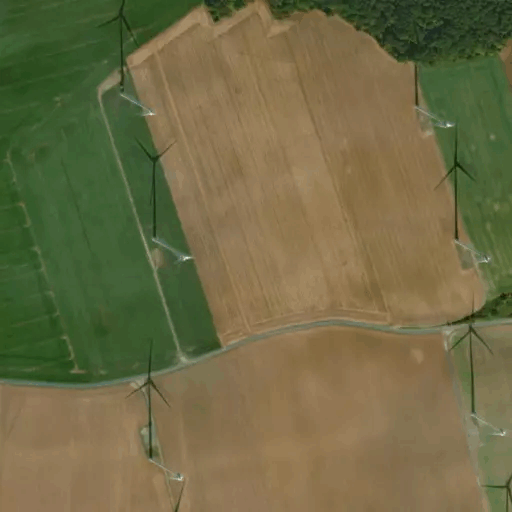wt: (446, 297, 509, 442), (98, 1, 162, 124), (130, 343, 185, 486), (135, 134, 194, 267), (449, 141, 488, 270), (402, 35, 452, 133)
